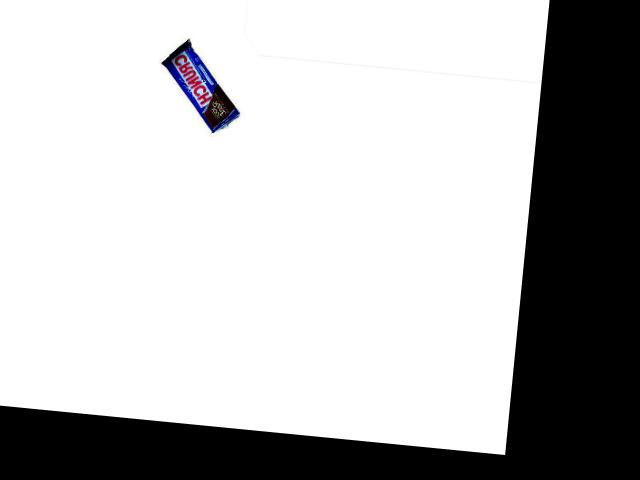chocolate: (154, 35, 248, 137)
